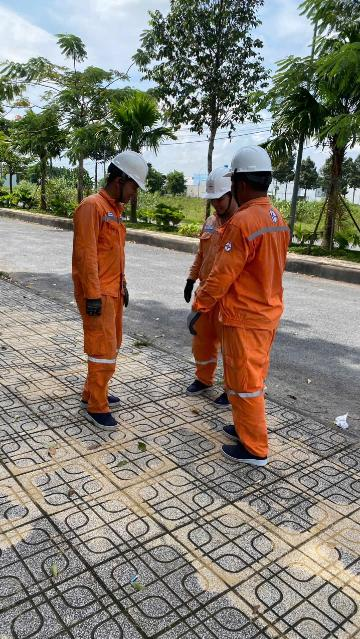gloves: (177, 306, 210, 337), (78, 290, 110, 319), (178, 280, 200, 301), (123, 279, 136, 310)
helmet: (98, 147, 162, 197), (219, 138, 279, 189), (190, 157, 236, 208)
shoes: (208, 440, 274, 473), (214, 417, 272, 446), (72, 406, 124, 437), (80, 382, 126, 410), (212, 383, 250, 410), (186, 370, 210, 403)
